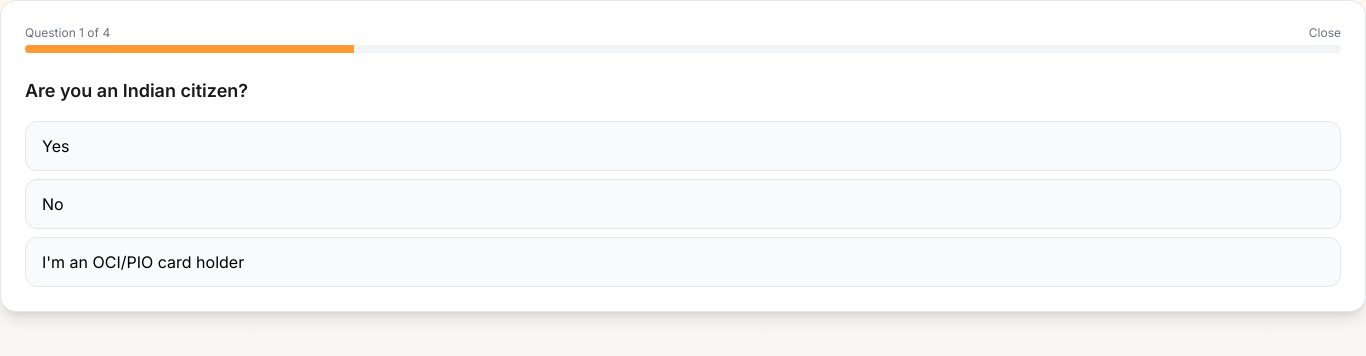
it: EligibilityWizard › blocks non-citizens
Click the button "No".
click(53, 204)  # box [25, 179, 1341, 229]
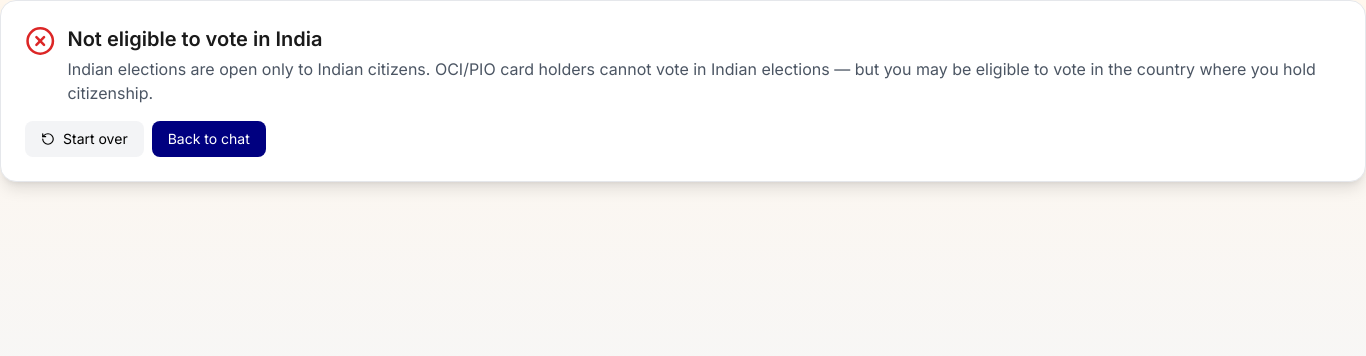
Expected: the heading "Not eligible to vote in India" is shown, [68, 27, 322, 51]
